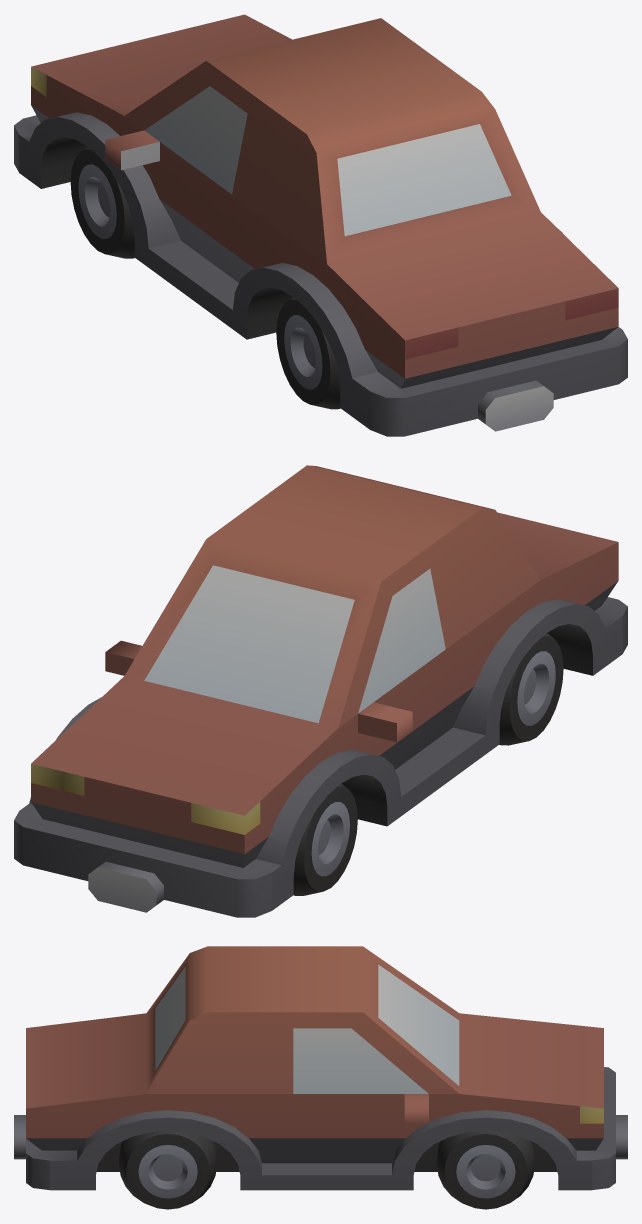
File: sedan.glb
3 renders of one model, top to bottom at view 1: azimuth 30°, elevation 25°; view 2: azimuth 150°, elevation 25°; view 3: azimuth 270°, elevation 25°, orthographic. The views are drawn at different scales.
Visible parts, largest first — view 1: body, wheel-back-left, wheel-front-left; view 2: body, wheel-front-left, wheel-back-left; view 3: body, wheel-back-right, wheel-front-right.
Part boxes in pixels (bbox=[...]): body: bbox=[14, 14, 627, 436]; wheel-back-left: bbox=[276, 297, 340, 409]; wheel-front-left: bbox=[70, 146, 134, 258]; body: bbox=[14, 465, 627, 917]; wheel-front-left: bbox=[293, 783, 357, 895]; wheel-back-left: bbox=[499, 633, 563, 745]; body: bbox=[14, 946, 627, 1190]; wheel-back-right: bbox=[119, 1131, 217, 1209]; wheel-front-right: bbox=[436, 1131, 534, 1209].
Size of the model in its own units: 1.9 by 1.56 by 4.49.
Materials: 1 (1 with a texture image).
